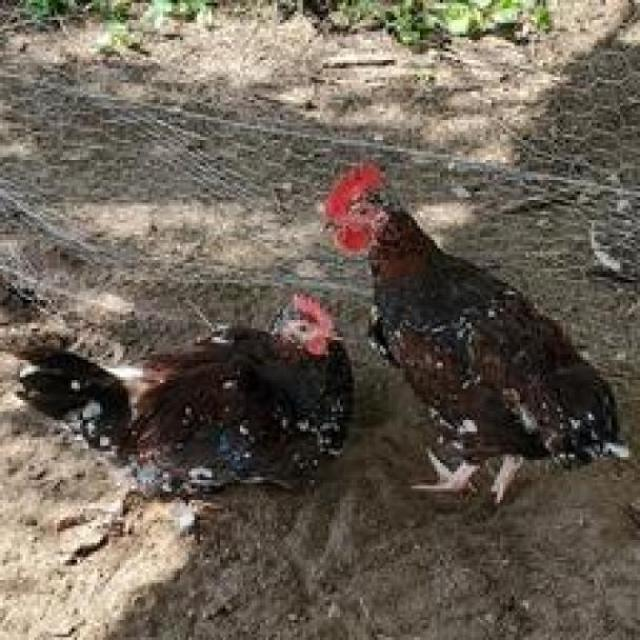Chicken: (321, 153, 627, 498), (12, 284, 360, 548)
